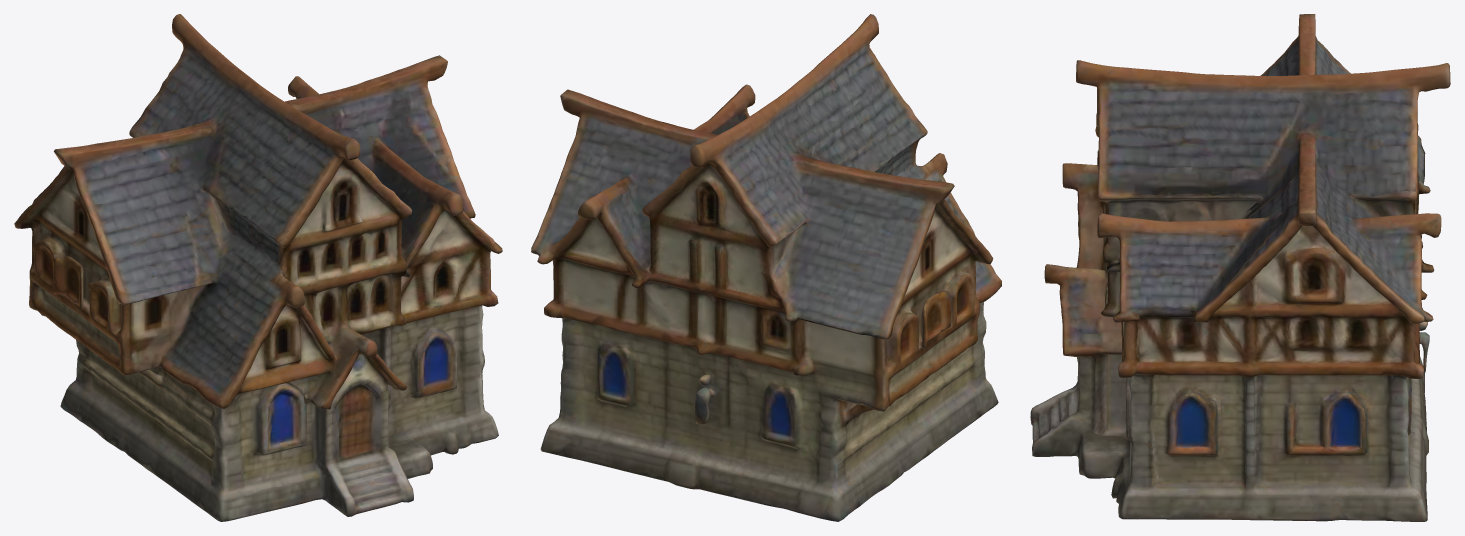
The model's file is building14.glb.
The picture shows the model from 3 angles, left to right: view 1: azimuth 30°, elevation 25°; view 2: azimuth 150°, elevation 25°; view 3: azimuth 270°, elevation 25°; orthographic projection. The views are drawn at different scales.
Size of the model in its own units: 2.02 by 1.77 by 1.79.
Materials: 1 (1 with a texture image).
